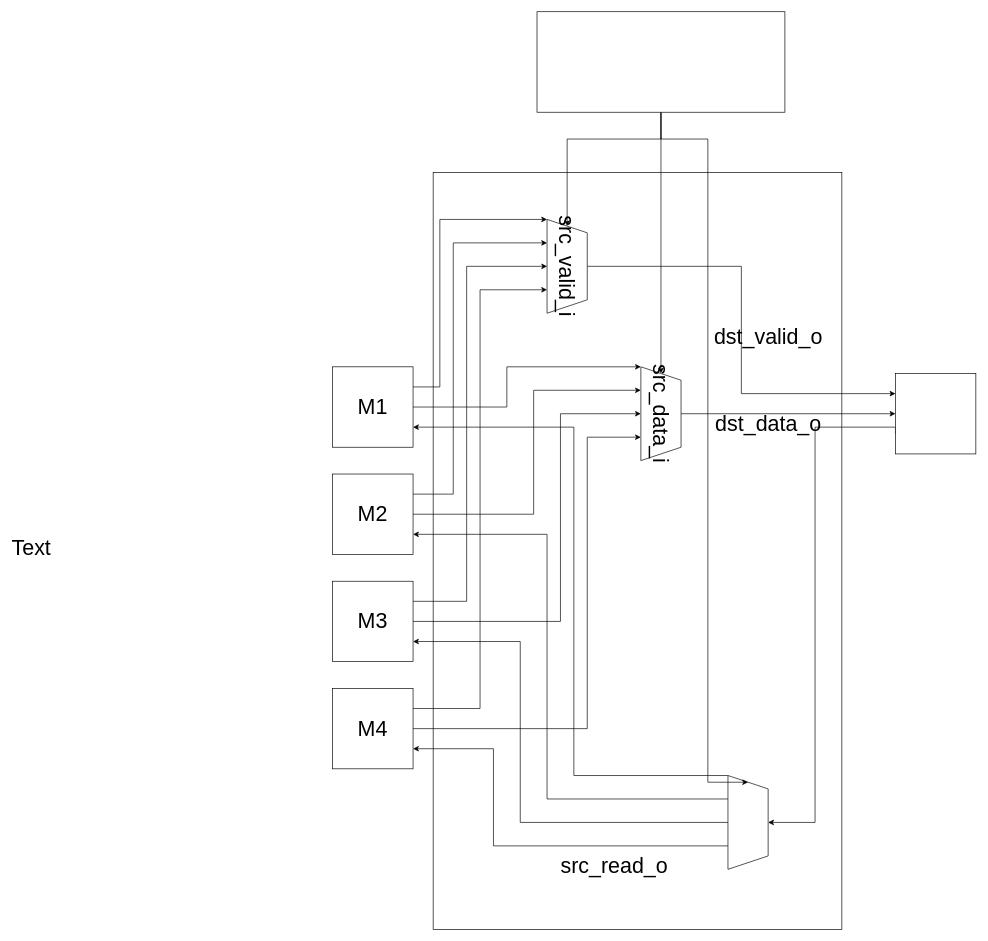
Some shapes in this 988 by 941 pixel diagram are drawn without their labels. Each missing label, with the box of its shape:
Dst: (895, 373, 976, 454)
dst_ready_i: (727, 775, 768, 869)
RR: (536, 11, 785, 112)
